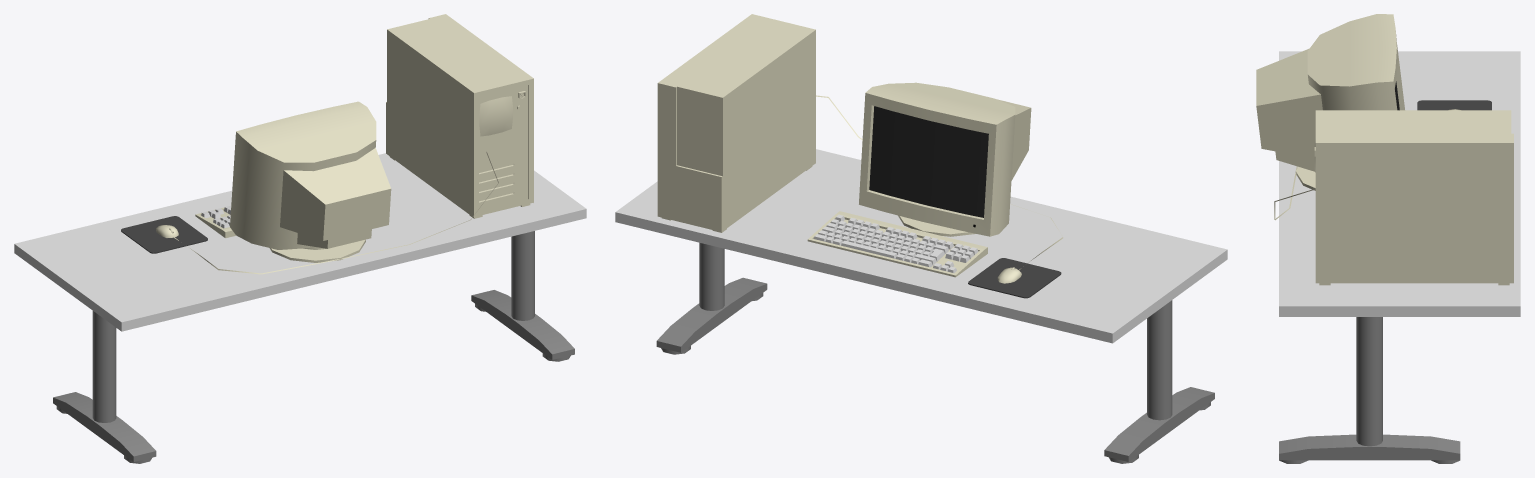
File: computer_table.glb
3 views of the same model, side by side, from view 1: azimuth 30°, elevation 25°; view 2: azimuth 150°, elevation 25°; view 3: azimuth 270°, elevation 25° (orthographic). The views are drawn at different scales.
Visible parts, largest first — view 1: table, computer, Monitor, Plane, monitor_stand; view 2: table, computer, Monitor, keyboard, Plane, monitor_stand; view 3: computer, table, Monitor, Plane, monitor_stand.
Boxes of the visible parts, x1,y1,x2,y2 form: table: (14, 153, 586, 463); computer: (386, 14, 533, 218); Monitor: (230, 101, 391, 249); Plane: (121, 216, 207, 253); monitor_stand: (269, 239, 365, 262); table: (615, 149, 1227, 463); computer: (657, 14, 815, 232); Monitor: (859, 82, 1031, 236); keyboard: (807, 211, 987, 277); Plane: (968, 258, 1061, 298); monitor_stand: (898, 215, 975, 236); computer: (1314, 110, 1513, 285); table: (1279, 51, 1520, 463); Monitor: (1256, 14, 1404, 171); Plane: (1417, 100, 1491, 110); monitor_stand: (1295, 167, 1315, 190).
Bounding box in the file's own units: 2 × 1.12 × 0.8757.
